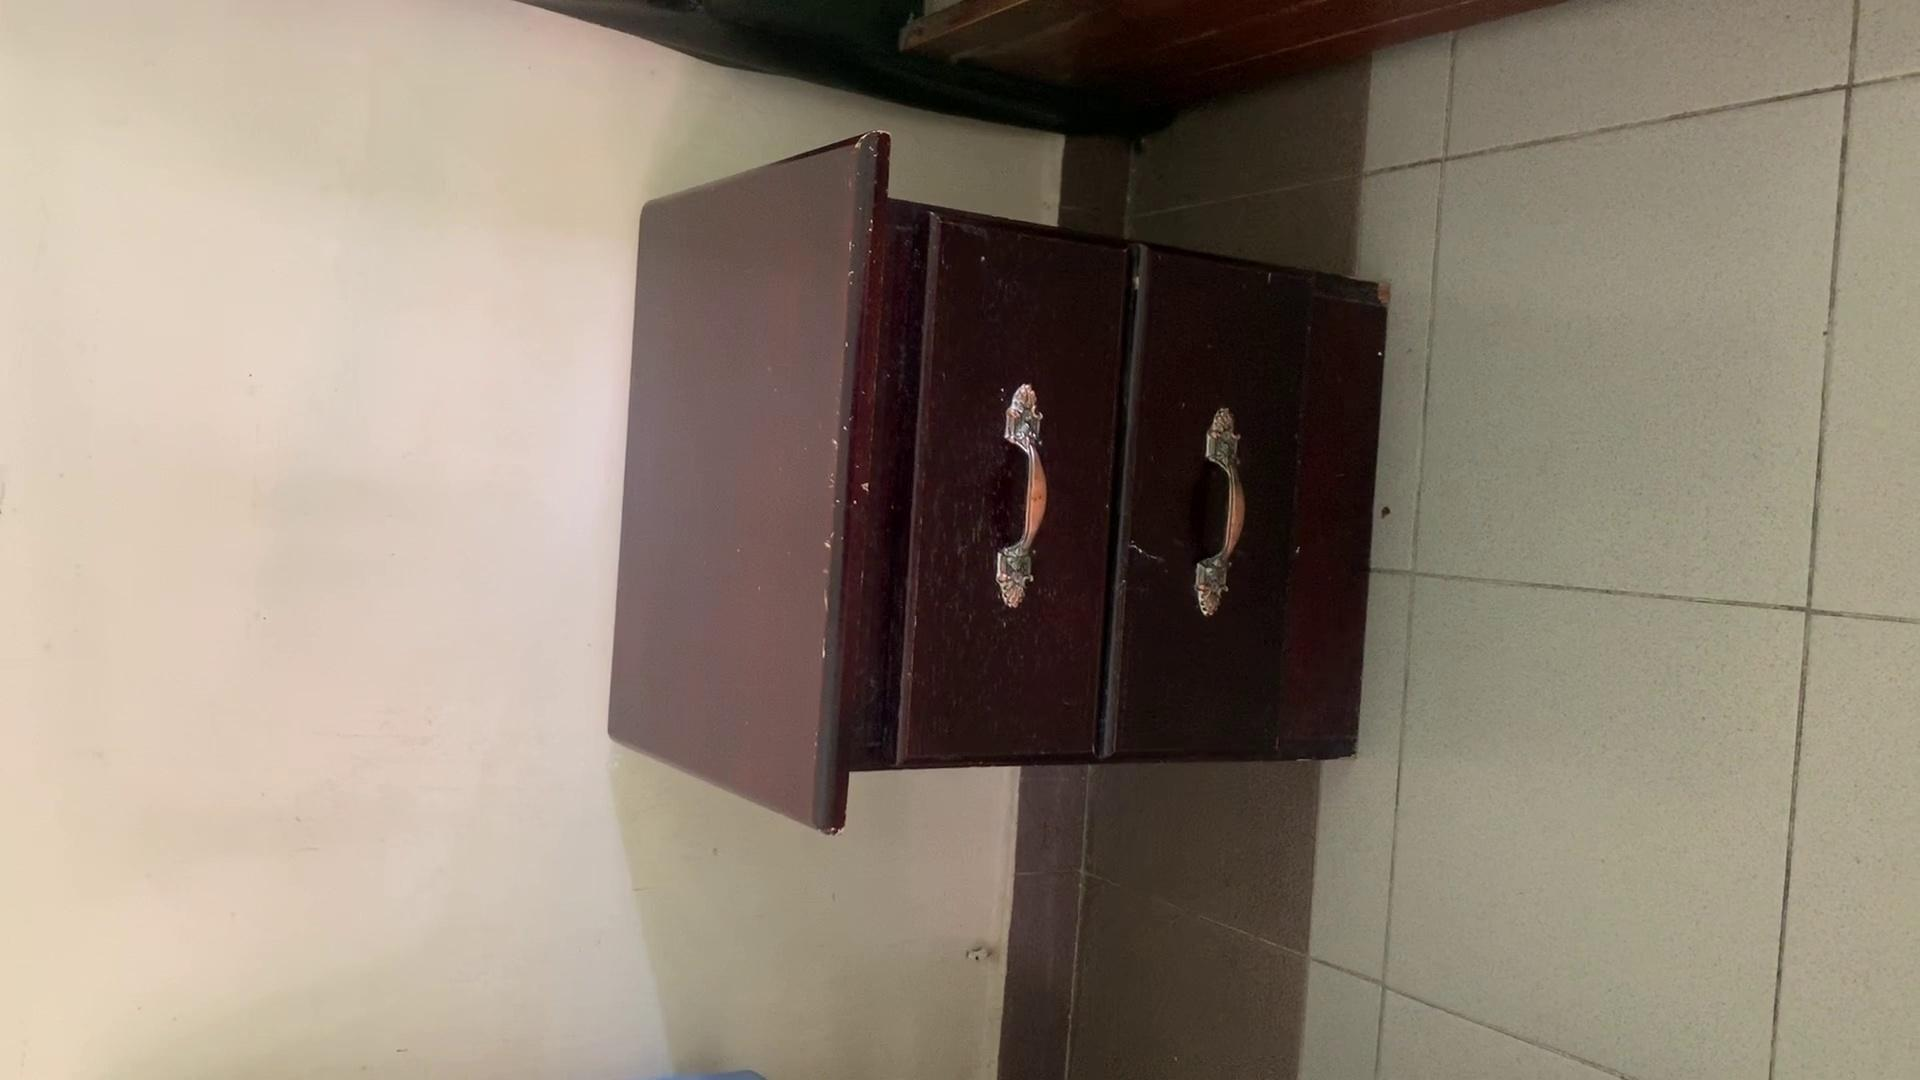cabinet_door: (927, 241, 1114, 766), (1139, 273, 1317, 766)
handle: (992, 373, 1064, 628), (1192, 413, 1254, 608)
